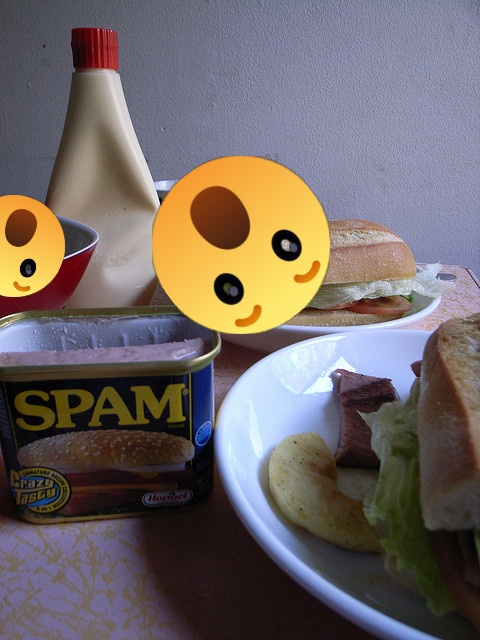wow: (152, 156, 330, 334), (0, 195, 65, 297)
